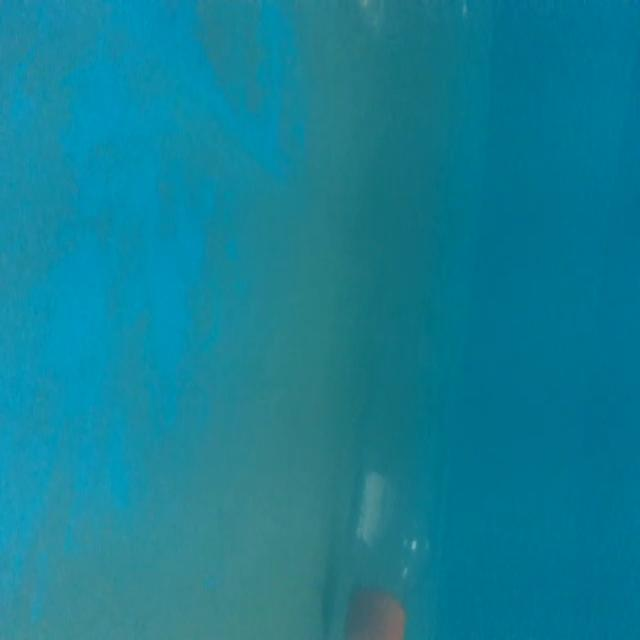plastic bottle: (308, 305, 500, 640)
